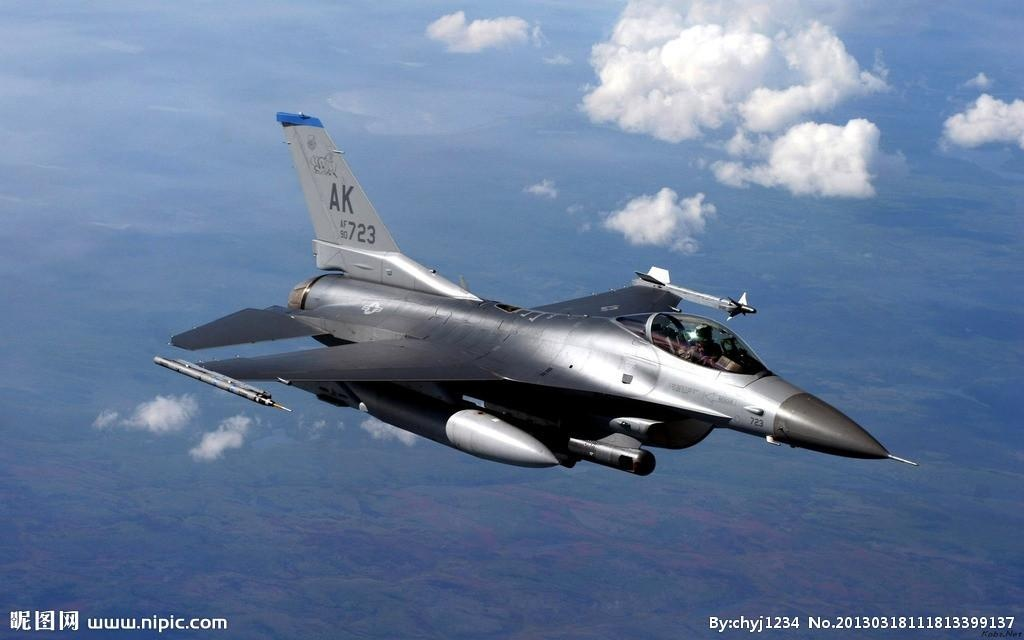airplane: (148, 96, 928, 496)
